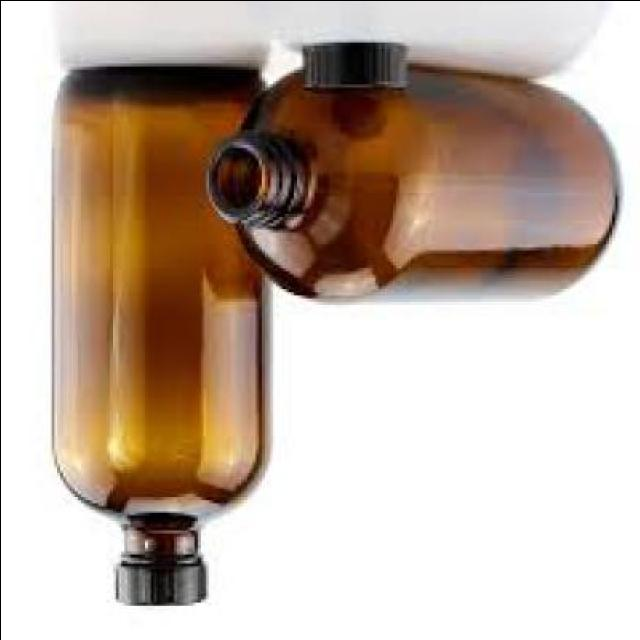kaca: (54, 66, 276, 604), (212, 62, 626, 301)
